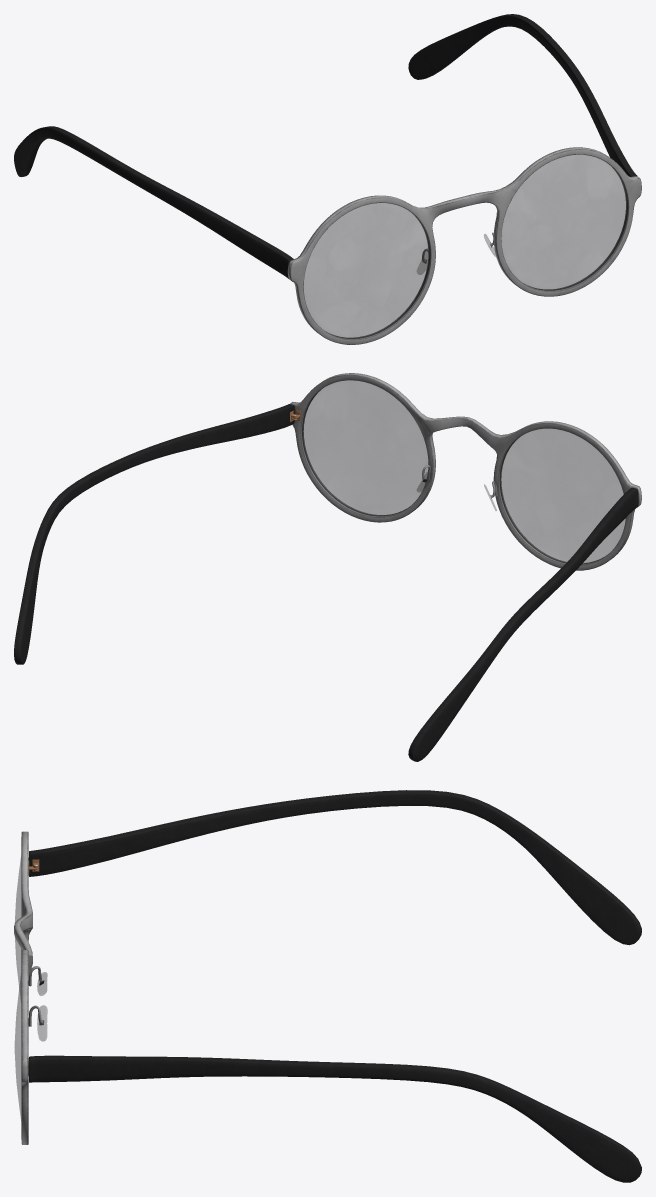
File: round_spectacles.glb
3 renders of one model, top to bottom at view 1: azimuth 30°, elevation 25°; view 2: azimuth 150°, elevation 25°; view 3: azimuth 270°, elevation 25°, orthographic. The views are drawn at different scales.
Parts seen in each view (by area): view 1: round_spectacles; view 2: round_spectacles; view 3: round_spectacles.
Part boxes in pixels (<box>): round_spectacles: <box>14,14,641,344</box>; round_spectacles: <box>14,373,641,761</box>; round_spectacles: <box>14,790,641,1182</box>.
Bounding box in the file's own units: 0.1578 × 0.0463 × 0.149.
Materials: 2 (2 with a texture image).
